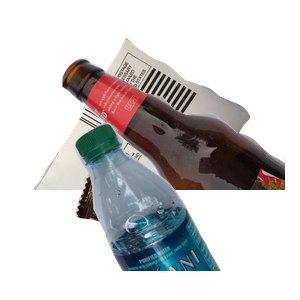glass: (60, 56, 300, 236)
paper: (31, 35, 271, 215)
plastic: (71, 120, 300, 300)
trash: (73, 171, 242, 300)
